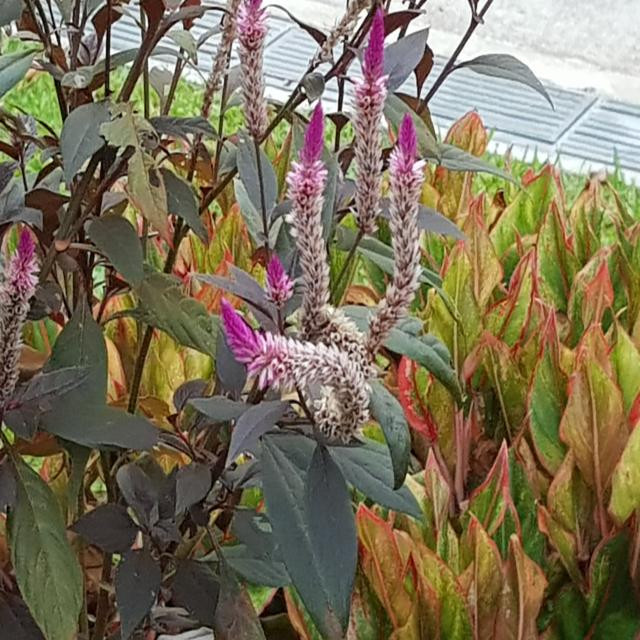Celosia-Argentea: (354, 122, 449, 343), (218, 305, 372, 432), (0, 212, 62, 417), (287, 107, 339, 339), (341, 15, 384, 248), (232, 11, 275, 173), (259, 248, 297, 316)
